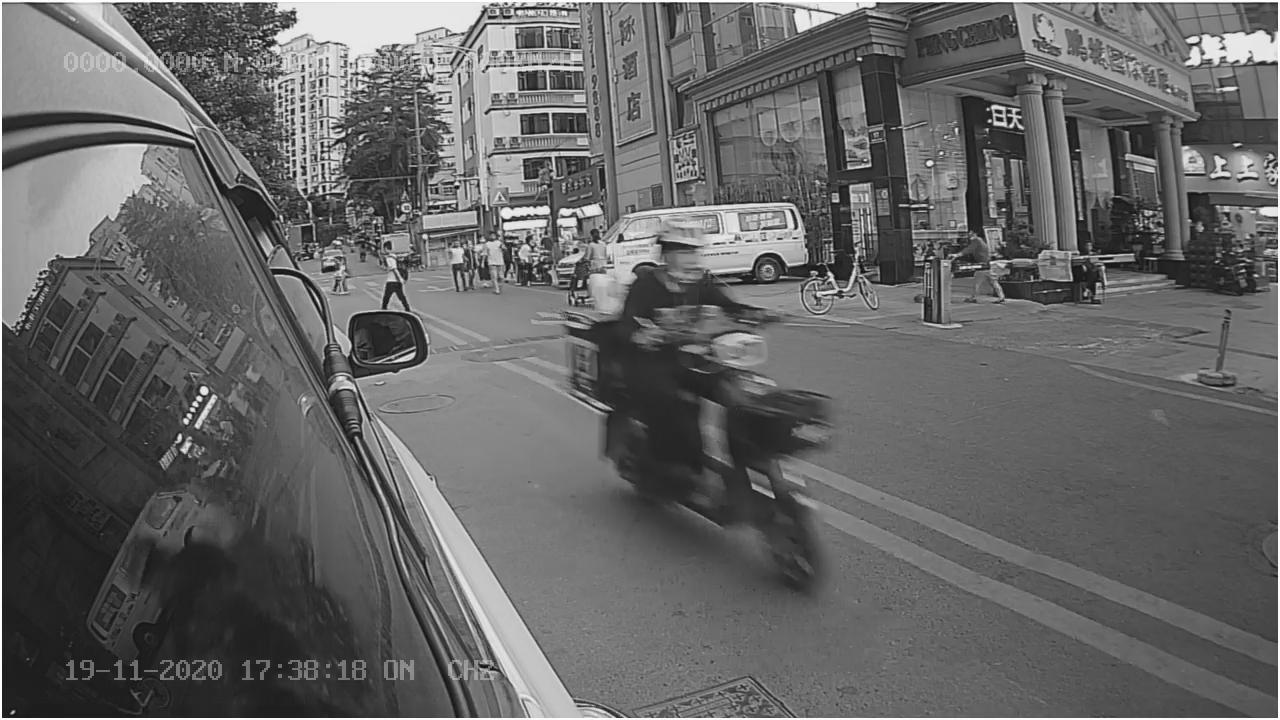person: (616, 215, 754, 326)
